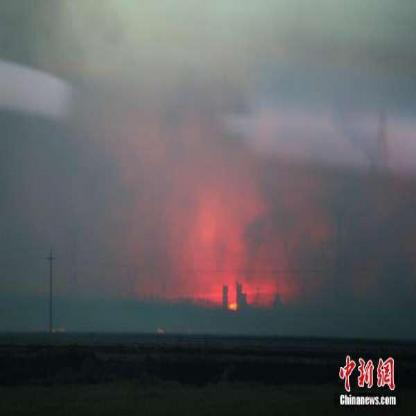fire: (209, 269, 254, 313)
smoke: (160, 18, 258, 266)
